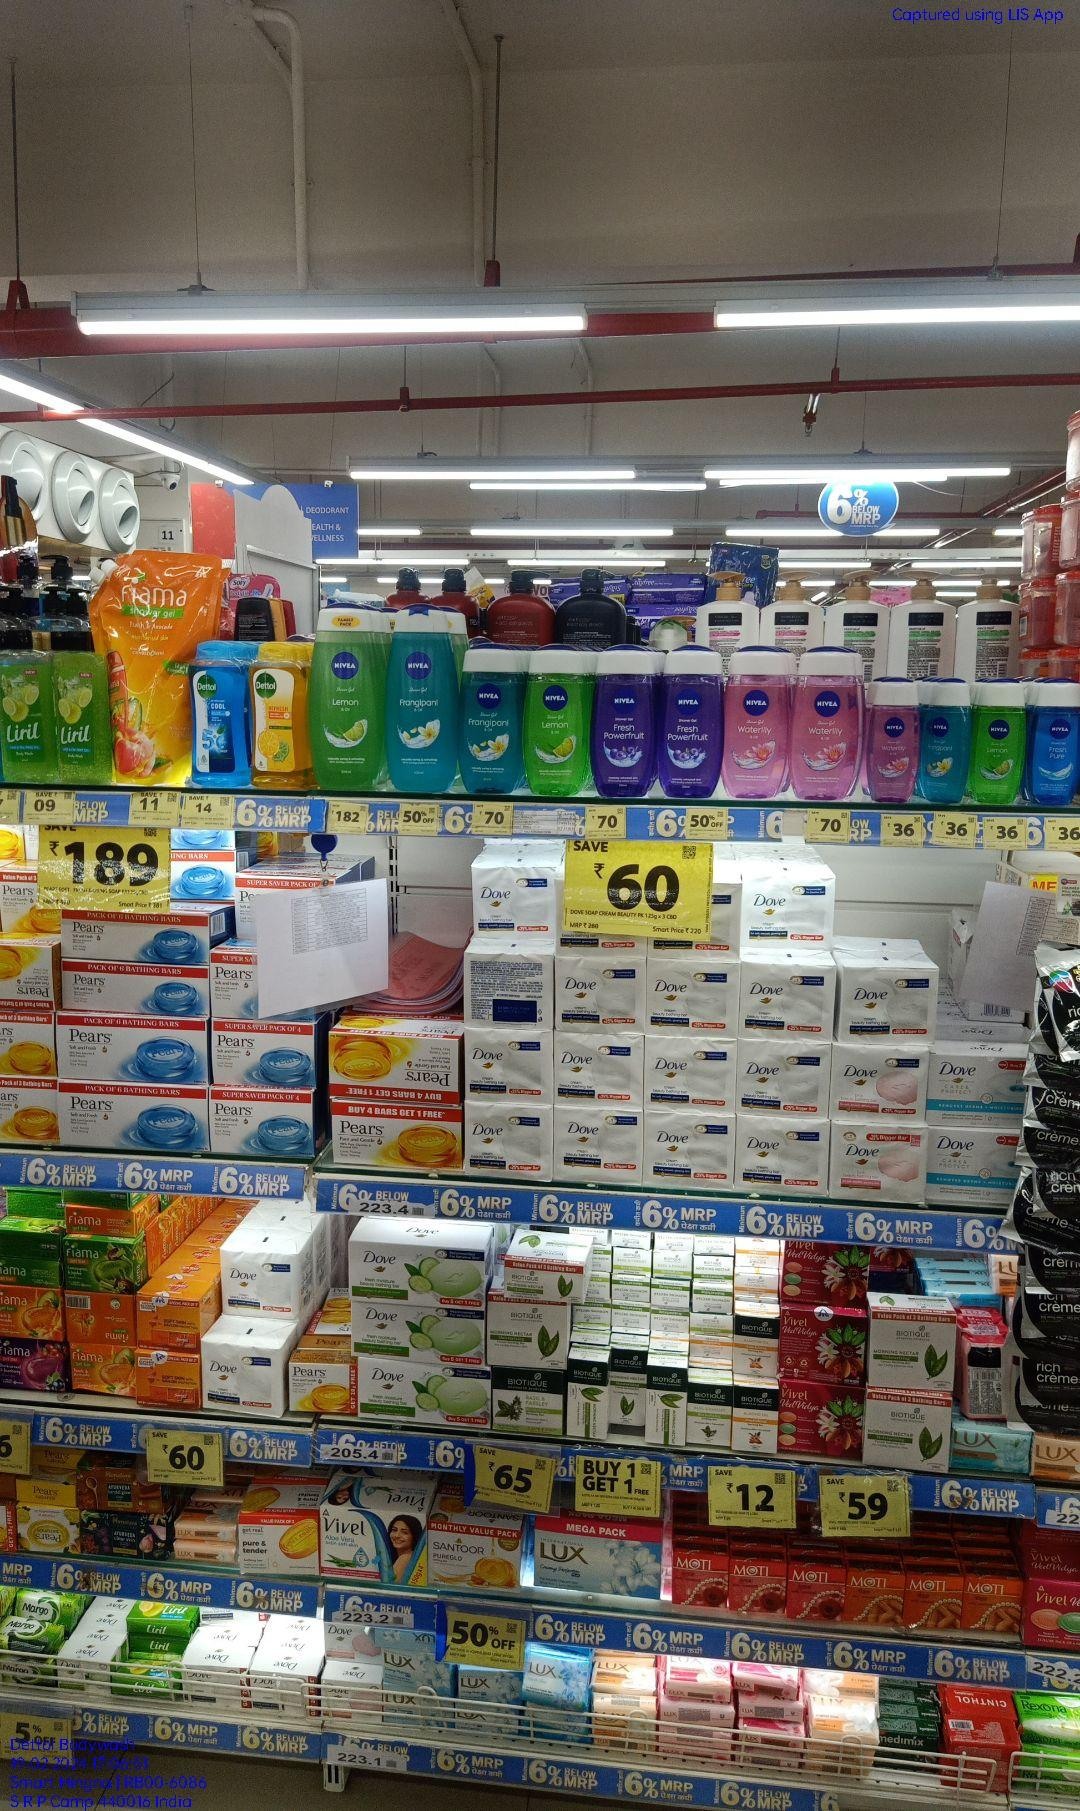Dettol_Bodywash_Cool: (189, 643, 251, 788)
Dettol_Bodywash_Refresh: (256, 647, 307, 789)
Liril_Lime_and_Tea_Tree_Oil_Body_Wash_250ML: (1, 630, 57, 785), (62, 634, 114, 784)
Nivea_Shower_Gel_Frangipani_and_Oil_250ML: (387, 608, 459, 794), (463, 654, 523, 793)
Nivea_Shower_Gel_Fresh_Powerfruit_250ML: (658, 645, 724, 798), (594, 645, 656, 797)
Nivea_Shower_Gel_Lemon_and_Oil_250ML: (311, 603, 382, 789), (526, 650, 589, 794)
Nivea_Shower_Gel_Waterlily_and_Oil_250ML: (789, 643, 859, 796), (728, 645, 783, 797)
